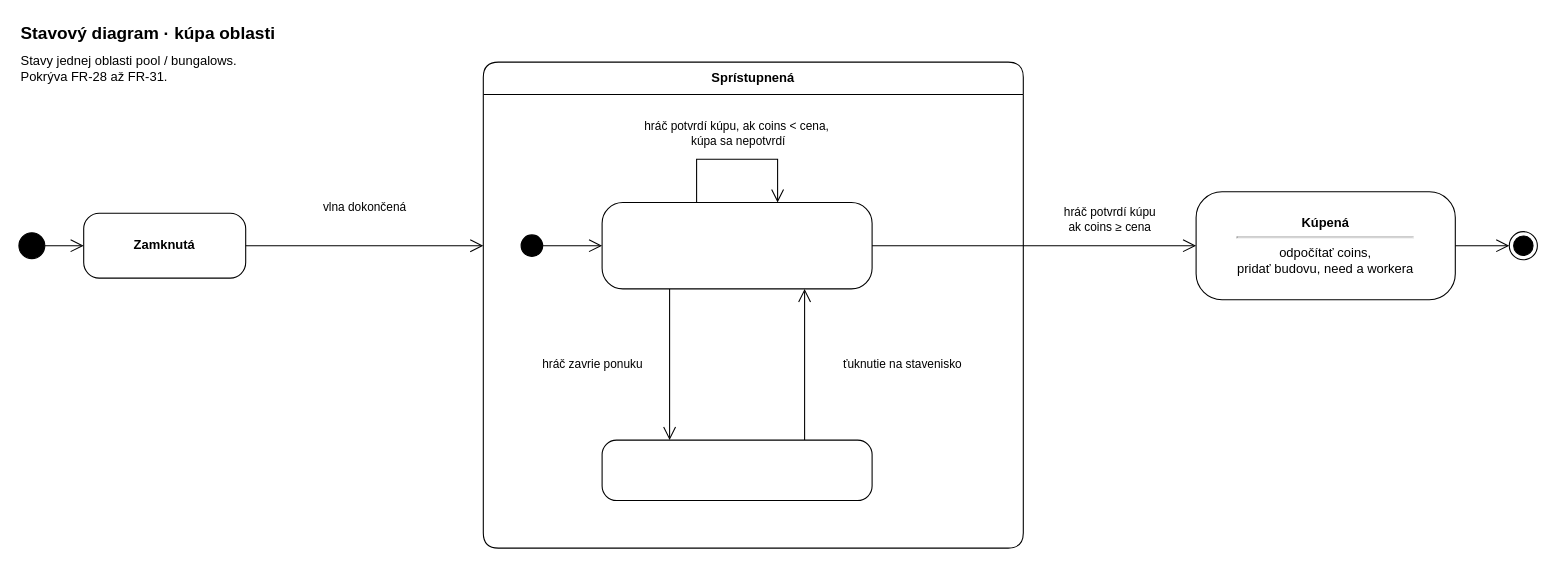
Some shapes in this 1556 by 567 pixel diagram are drawn without their labels. The centre of each missing label's shape, as x and y in pixels:
"Ponuka otvorená entry / ukáž need, Worker-a a cenu" belongs at pixel 736 245.
"Ponuka zavretá" belongs at pixel 736 470.
